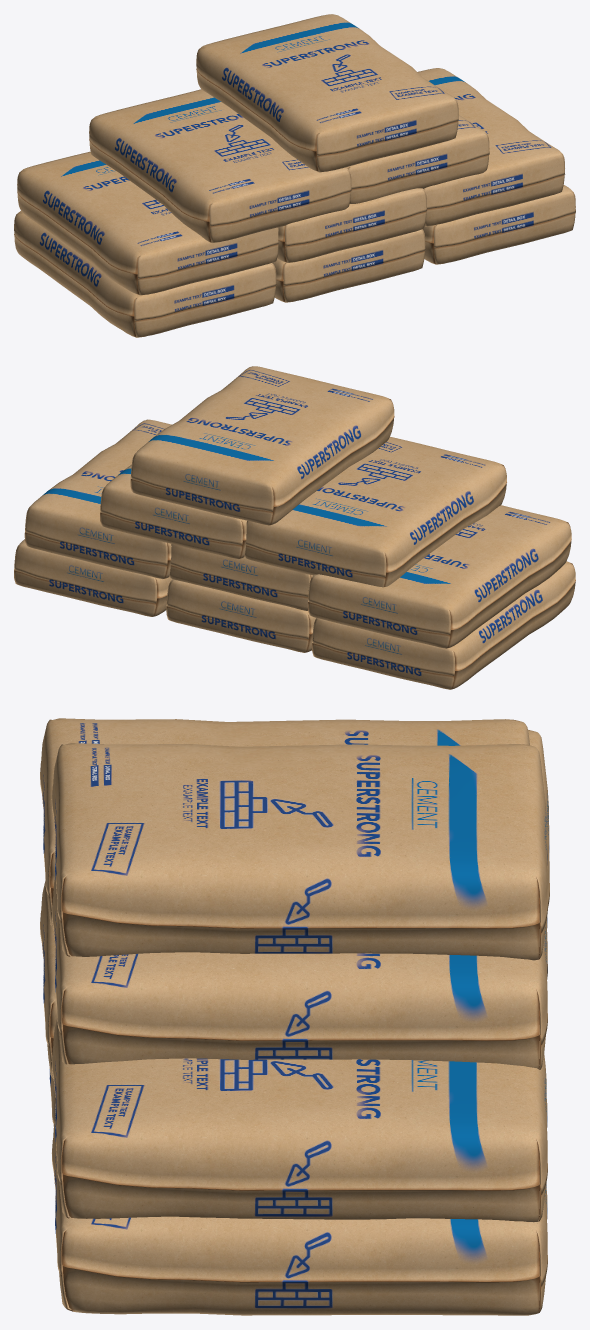
File: cement.obj
3 renders of one model, top to bottom at view 1: azimuth 30°, elevation 25°; view 2: azimuth 150°, elevation 25°; view 3: azimuth 270°, elevation 25°, orthographic. The views are drawn at different scales.
Visible parts, largest first — view 1: Cement_Bag.008, Cement_Bag.006, Cement_Bag.004, Cement_Bag.001, Cement_Bag.003, Cement_Bag.002, Cement_Bag.005, Cement_Bag.007, Cement_Bag; view 2: Cement_Bag.008, Cement_Bag.006, Cement_Bag.004, Cement_Bag.001, Cement_Bag.003, Cement_Bag.007, Cement_Bag, Cement_Bag.002, Cement_Bag.005; view 3: Cement_Bag.008, Cement_Bag.003, Cement_Bag.007, Cement_Bag.002, Cement_Bag.006, Cement_Bag.005, Cement_Bag.004.
Part boxes in pixels (x1,y1,x2,y2): Cement_Bag.008: (196, 14, 458, 172); Cement_Bag.006: (89, 89, 351, 243); Cement_Bag.004: (17, 151, 278, 295); Cement_Bag.001: (14, 211, 276, 337); Cement_Bag.003: (417, 68, 565, 226); Cement_Bag.002: (422, 185, 575, 264); Cement_Bag.005: (277, 188, 426, 262); Cement_Bag.007: (346, 115, 489, 203); Cement_Bag: (272, 229, 425, 302); Cement_Bag.008: (130, 366, 394, 525); Cement_Bag.006: (244, 436, 506, 587); Cement_Bag.004: (308, 505, 571, 648); Cement_Bag.001: (312, 561, 575, 689); Cement_Bag.003: (24, 419, 171, 579); Cement_Bag.007: (100, 465, 246, 559); Cement_Bag: (166, 579, 315, 652); Cement_Bag.002: (14, 539, 172, 616); Cement_Bag.005: (169, 544, 312, 610); Cement_Bag.008: (51, 743, 547, 960); Cement_Bag.003: (51, 1012, 547, 1222); Cement_Bag.007: (51, 876, 547, 1069); Cement_Bag.002: (51, 1118, 547, 1315); Cement_Bag.006: (40, 718, 529, 926); Cement_Bag.005: (40, 872, 57, 1078); Cement_Bag.004: (528, 730, 549, 923).
Size of the model in its own units: 2.02 by 0.7295 by 0.9908.
9 materials, 9 textured.
